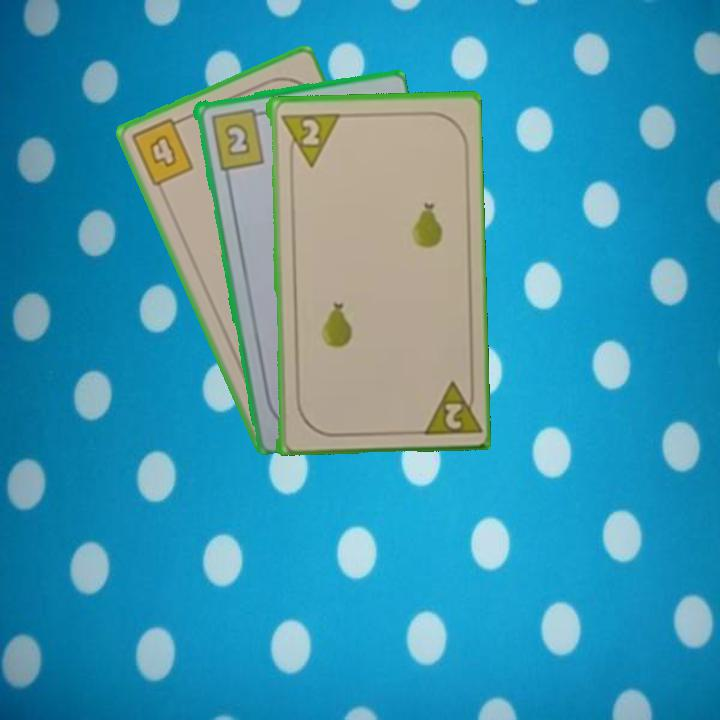2b: (207, 104, 268, 172)
2p: (415, 375, 480, 438), (276, 109, 340, 169)
4b: (127, 113, 196, 189)
